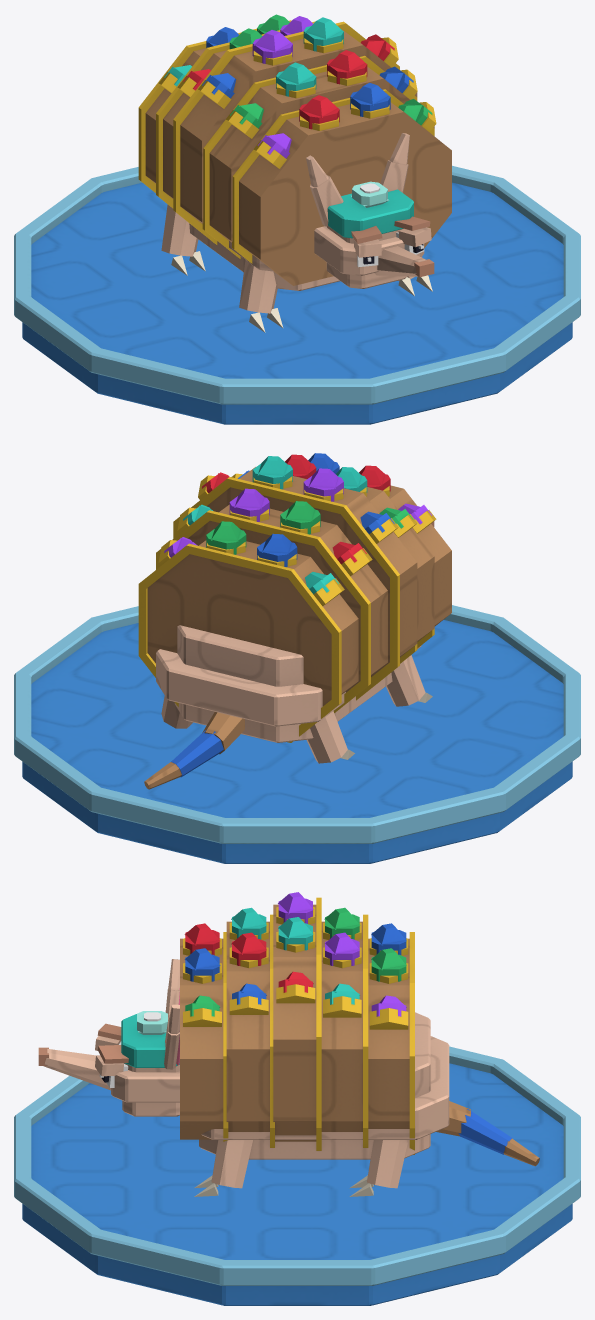
File: GemArmadillo.fbx
3 renders of one model, top to bottom at view 1: azimuth 30°, elevation 25°; view 2: azimuth 150°, elevation 25°; view 3: azimuth 270°, elevation 25°, orthographic.
Visible parts, largest first — view 1: Art_GemArmadillo_Stand, Art_GemArmadillo_Body, Art_GemArmadillo_Head; view 2: Art_GemArmadillo_Stand, Art_GemArmadillo_Body, Art_GemArmadillo_Tail; view 3: Art_GemArmadillo_Stand, Art_GemArmadillo_Body, Art_GemArmadillo_Head, Art_GemArmadillo_Tail.
Boxes of the visible parts, box(x1,y1,x2,y2) form: Art_GemArmadillo_Stand: box(14, 165, 580, 424); Art_GemArmadillo_Body: box(138, 14, 451, 332); Art_GemArmadillo_Head: box(306, 133, 434, 288); Art_GemArmadillo_Stand: box(14, 605, 580, 863); Art_GemArmadillo_Body: box(138, 453, 451, 763); Art_GemArmadillo_Tail: box(144, 712, 244, 789); Art_GemArmadillo_Stand: box(14, 1046, 580, 1305); Art_GemArmadillo_Body: box(180, 892, 449, 1196); Art_GemArmadillo_Head: box(38, 959, 179, 1116); Art_GemArmadillo_Tail: box(436, 1101, 539, 1166).
Bounding box in the file's own units: 3.28 × 1.81 × 3.28.
